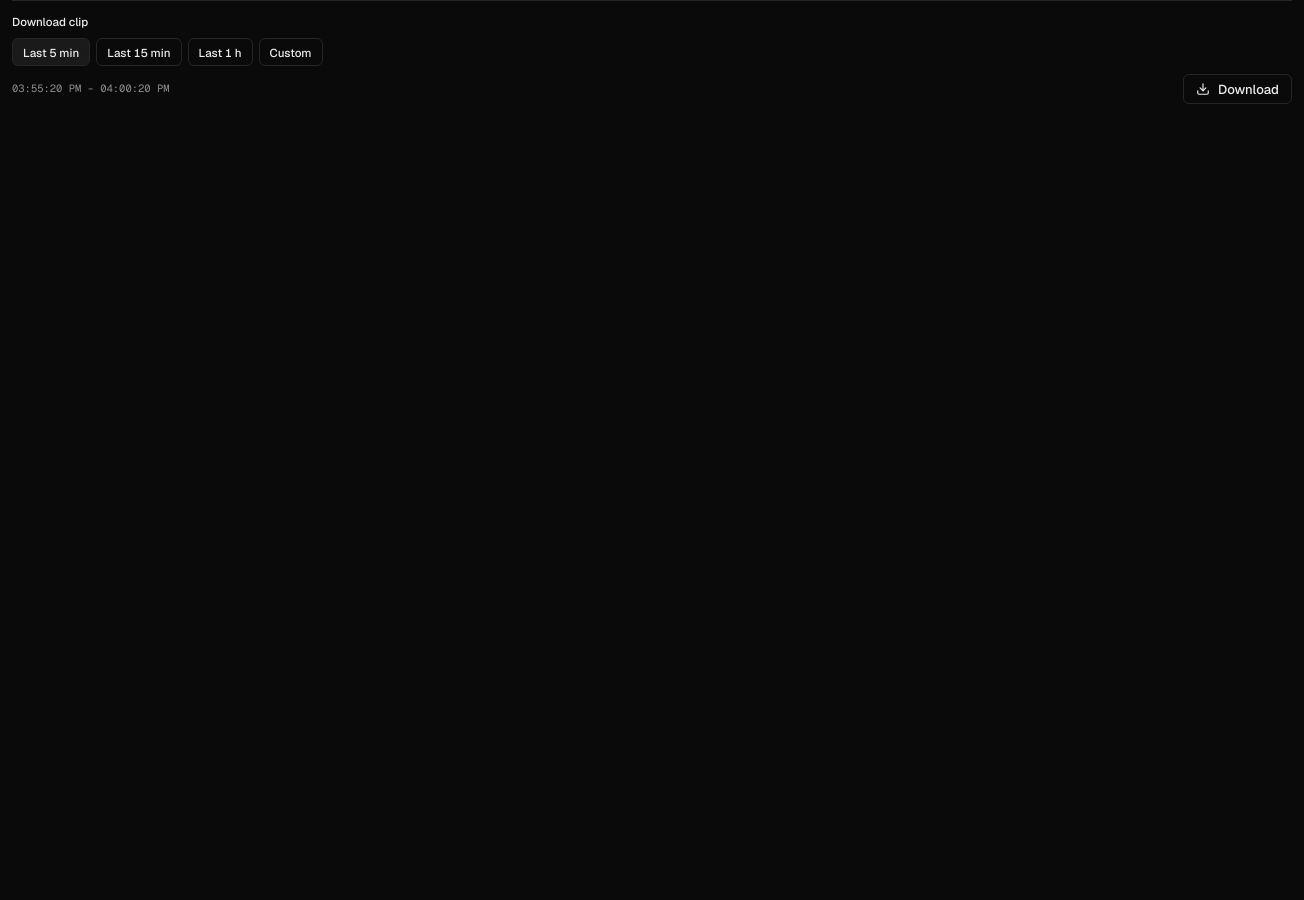
Test: failures › reports any other failure
Click the button "Download" at point(1238, 89), box 1183,74 -> 1292,104
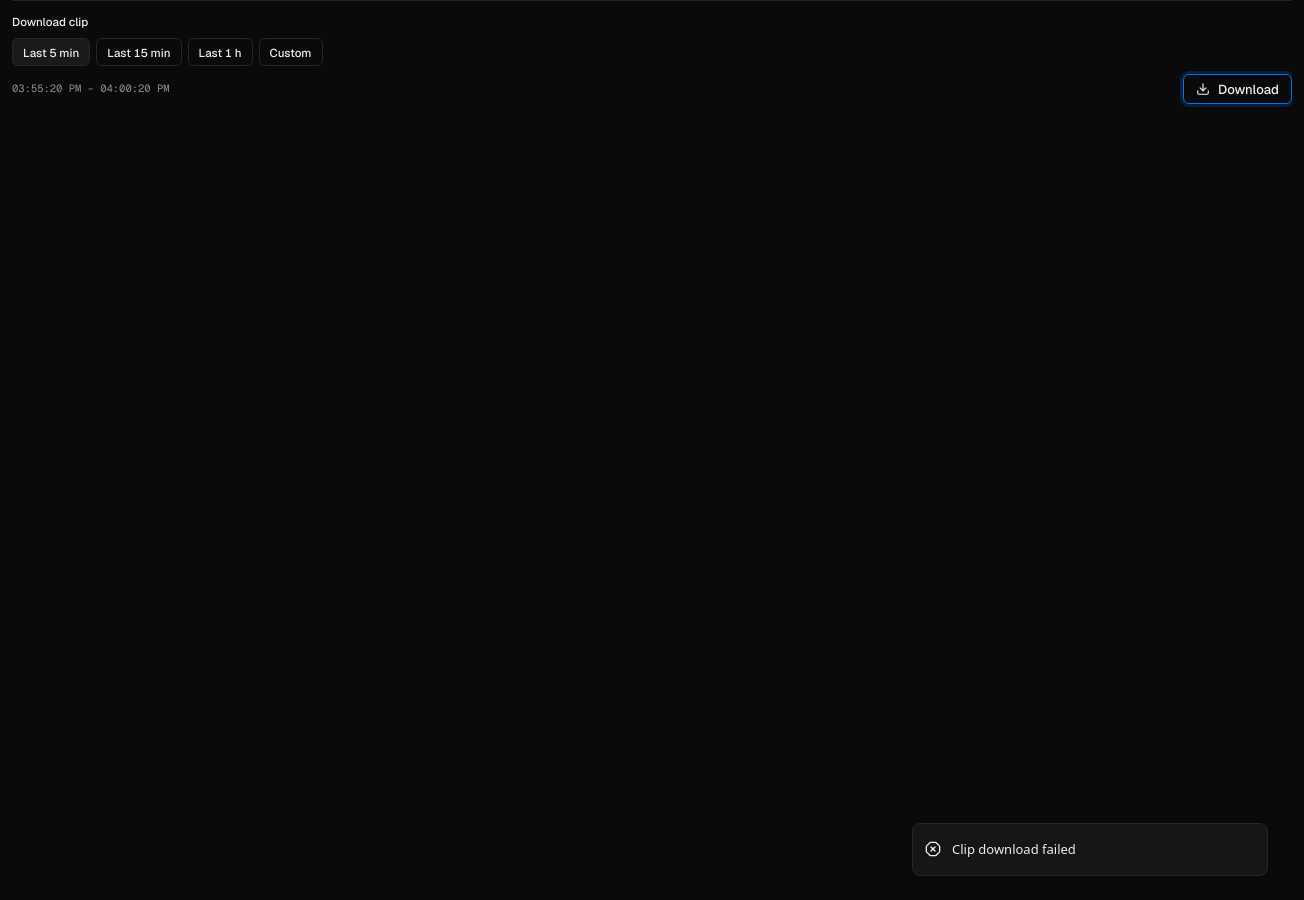
Expected: the text "Clip download failed" is shown, 952,840 -> 1076,859
